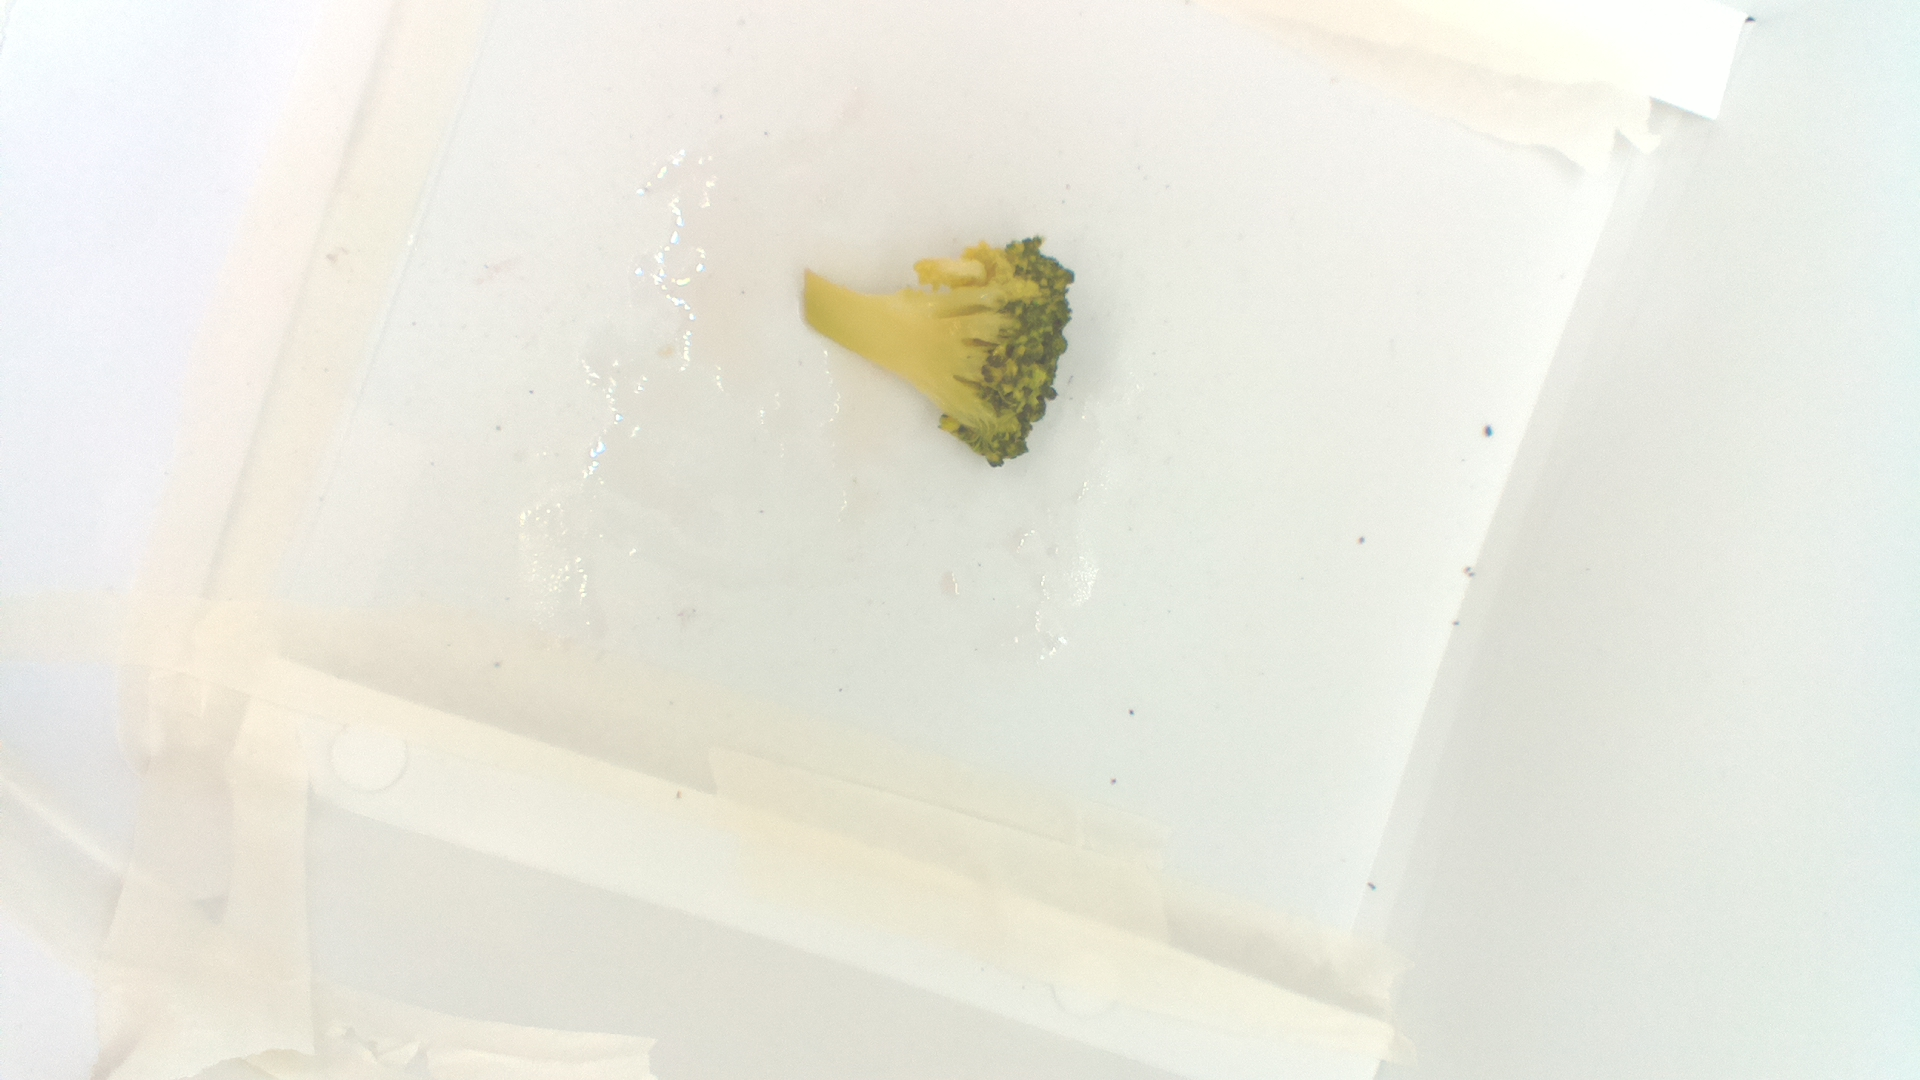vegetable: (795, 232, 1080, 472)
